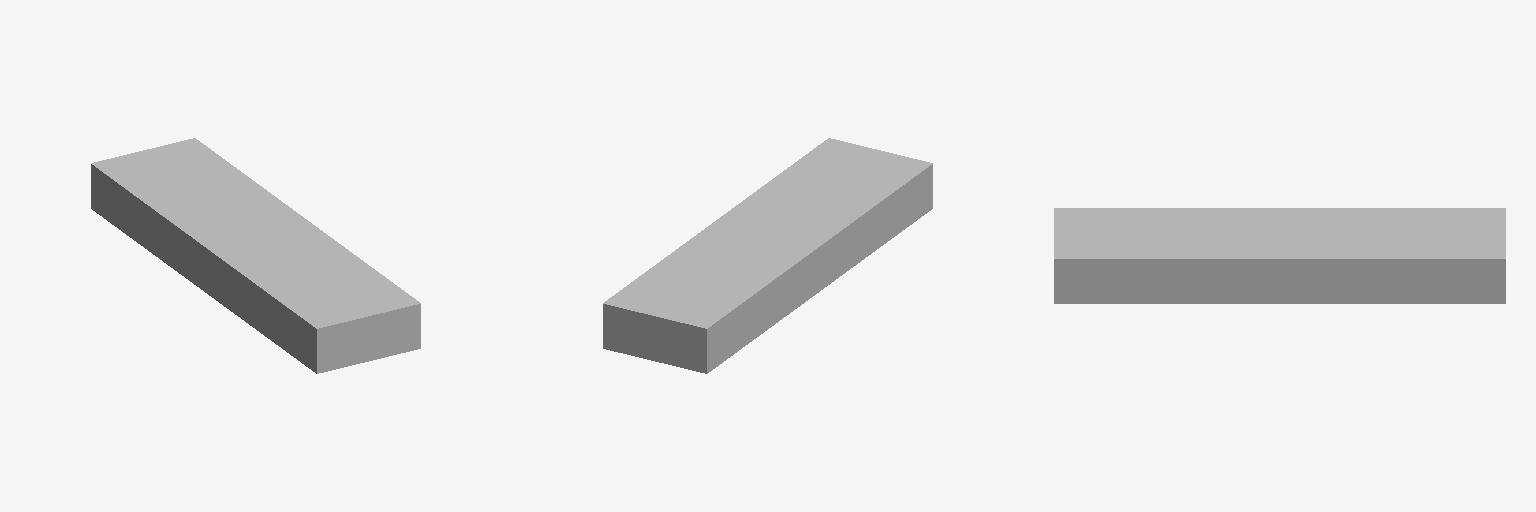
The model's file is muzeu.obj.
3 renders of one model, left to right at view 1: azimuth 30°, elevation 25°; view 2: azimuth 150°, elevation 25°; view 3: azimuth 270°, elevation 25°, orthographic.
Parts seen in each view (by area): view 1: Tavan, C2PereteStanga, C1PereteSpate; view 2: Tavan, C2PereteStanga, C3PereteSpate; view 3: Tavan, C2PereteDreapta.
Part boxes in pixels (bbox=[...]): Tavan: bbox=[91, 138, 420, 329]; C2PereteStanga: bbox=[91, 165, 318, 372]; C1PereteSpate: bbox=[319, 306, 418, 371]; Tavan: bbox=[603, 138, 932, 329]; C2PereteStanga: bbox=[705, 165, 932, 372]; C3PereteSpate: bbox=[605, 306, 704, 371]; Tavan: bbox=[1054, 208, 1505, 259]; C2PereteDreapta: bbox=[1054, 260, 1505, 302].
Bounding box in the file's own units: 4.62 × 1.91 × 17.33.